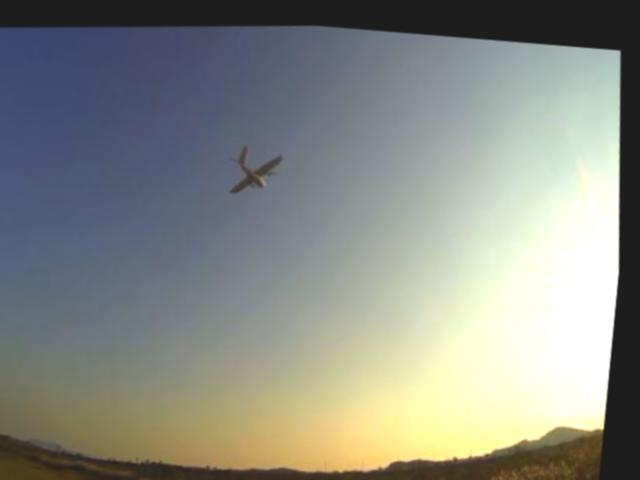uav: (219, 127, 297, 205)
